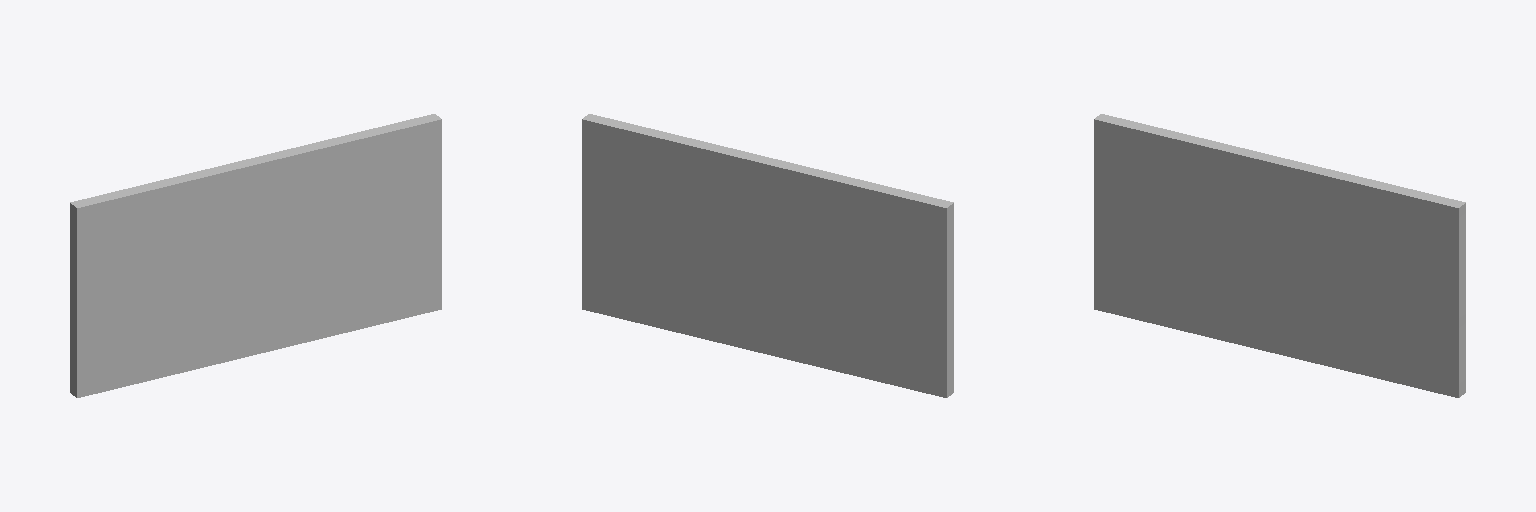
The model's file is EverythingLibrary_Furnishings_Wall_1.obj.
3 views of the same model, side by side, from view 1: azimuth 30°, elevation 25°; view 2: azimuth 150°, elevation 25°; view 3: azimuth 330°, elevation 25° (orthographic).
Parts seen in each view (by area): view 1: RedBrickWall_Mesh.1195; view 2: RedBrickWall_Mesh.1195; view 3: RedBrickWall_Mesh.1195.
Boxes of the visible parts, <box> form: RedBrickWall_Mesh.1195: <box>70,114,441,397</box>; RedBrickWall_Mesh.1195: <box>582,114,953,397</box>; RedBrickWall_Mesh.1195: <box>1094,114,1465,397</box>.
Size of the model in its own units: 2.62 by 1.3 by 0.0965.